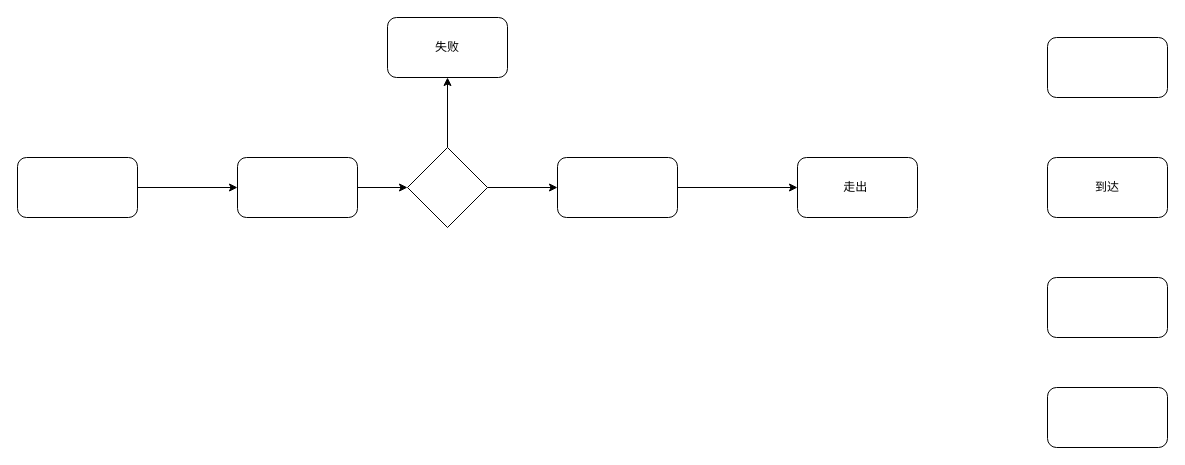
Image size: 1185x465. Some labels were removed from this diagram. The box of each missing label's shape, as (x1, y1, x2, y2) in pixels:
开始: (236, 156, 358, 218)
达到条件: (556, 156, 678, 218)
